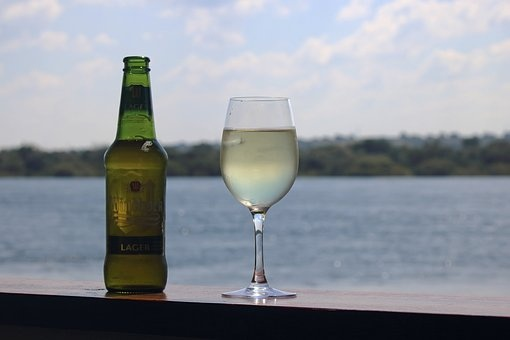beerBottle: (104, 57, 171, 294)
